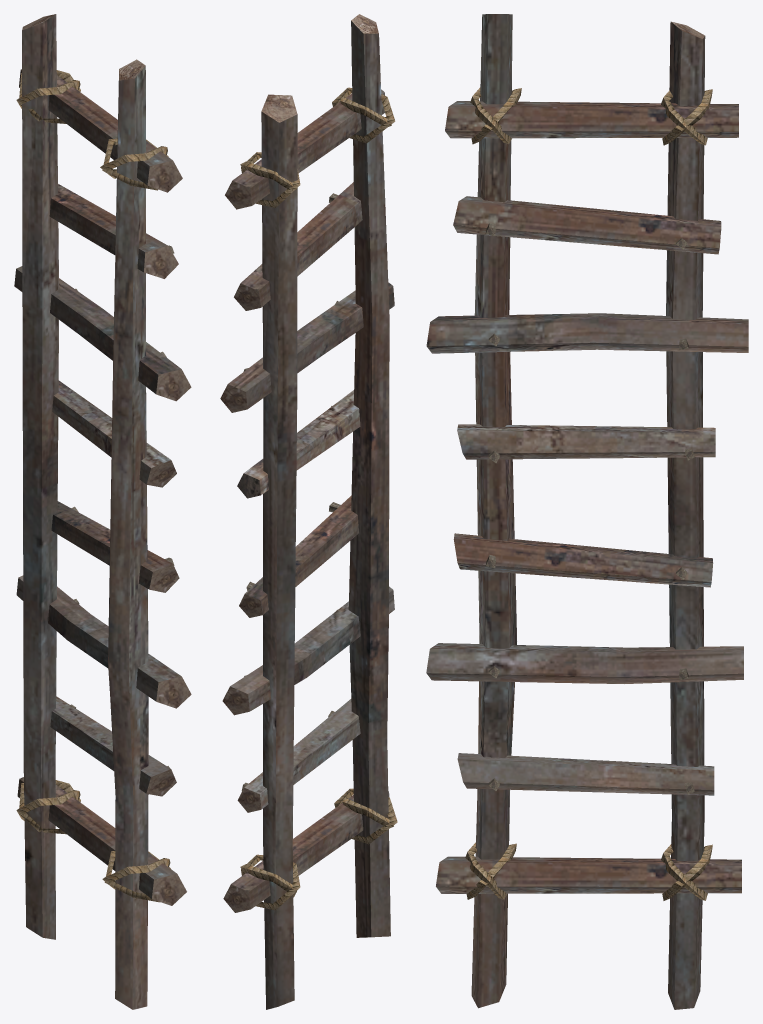
File: bg_anh_etc_sb11_sm_old.FBX
3 renders of one model, left to right at view 1: azimuth 30°, elevation 25°; view 2: azimuth 150°, elevation 25°; view 3: azimuth 270°, elevation 25°, orthographic. The views are drawn at different scales.
Visible parts, largest first — view 1: bg_anh_etc_sb11_sm_old; view 2: bg_anh_etc_sb11_sm_old; view 3: bg_anh_etc_sb11_sm_old.
Boxes of the visible parts, x1,y1,x2,y2 form: bg_anh_etc_sb11_sm_old: (14, 14, 191, 1009); bg_anh_etc_sb11_sm_old: (220, 14, 397, 1009); bg_anh_etc_sb11_sm_old: (426, 14, 748, 1009).
Size of the model in its own units: 18.36 by 238 by 69.75.
